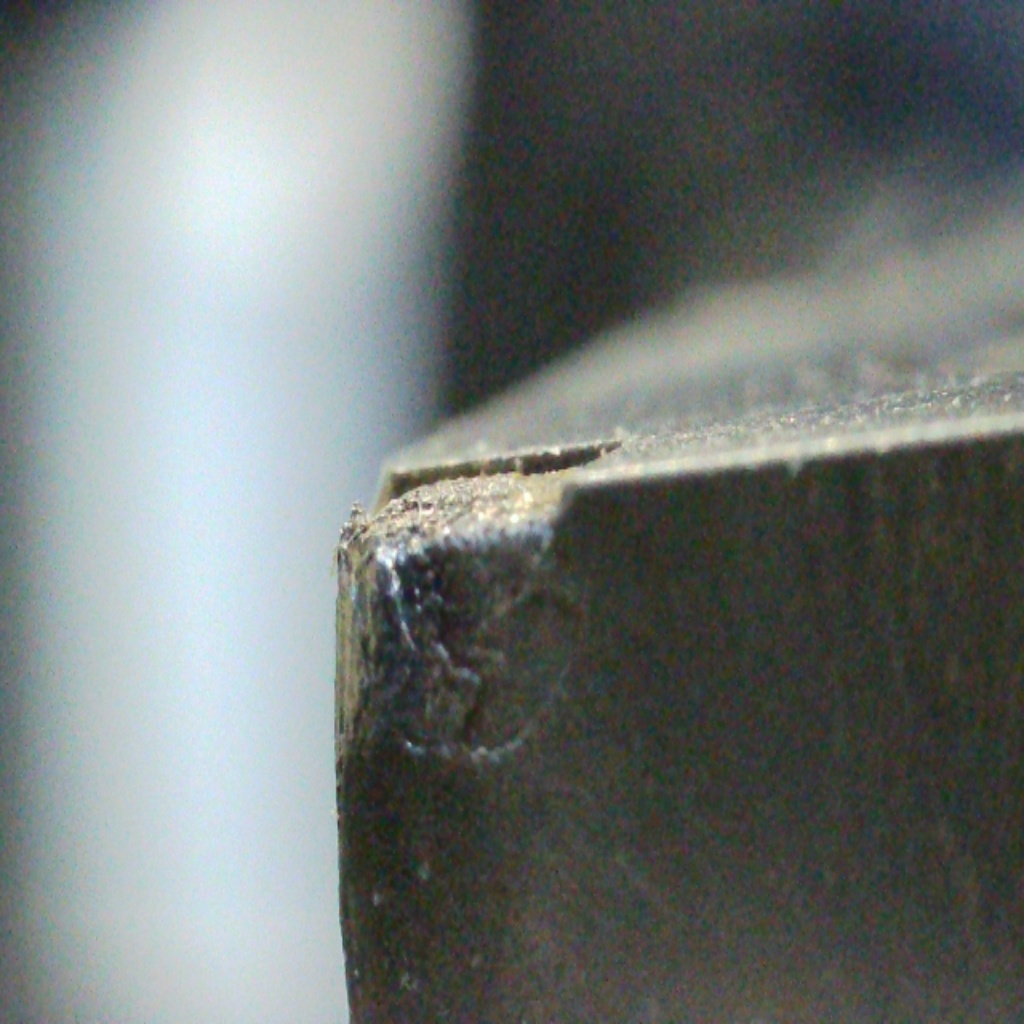flank_wear: (332, 520, 590, 773)
